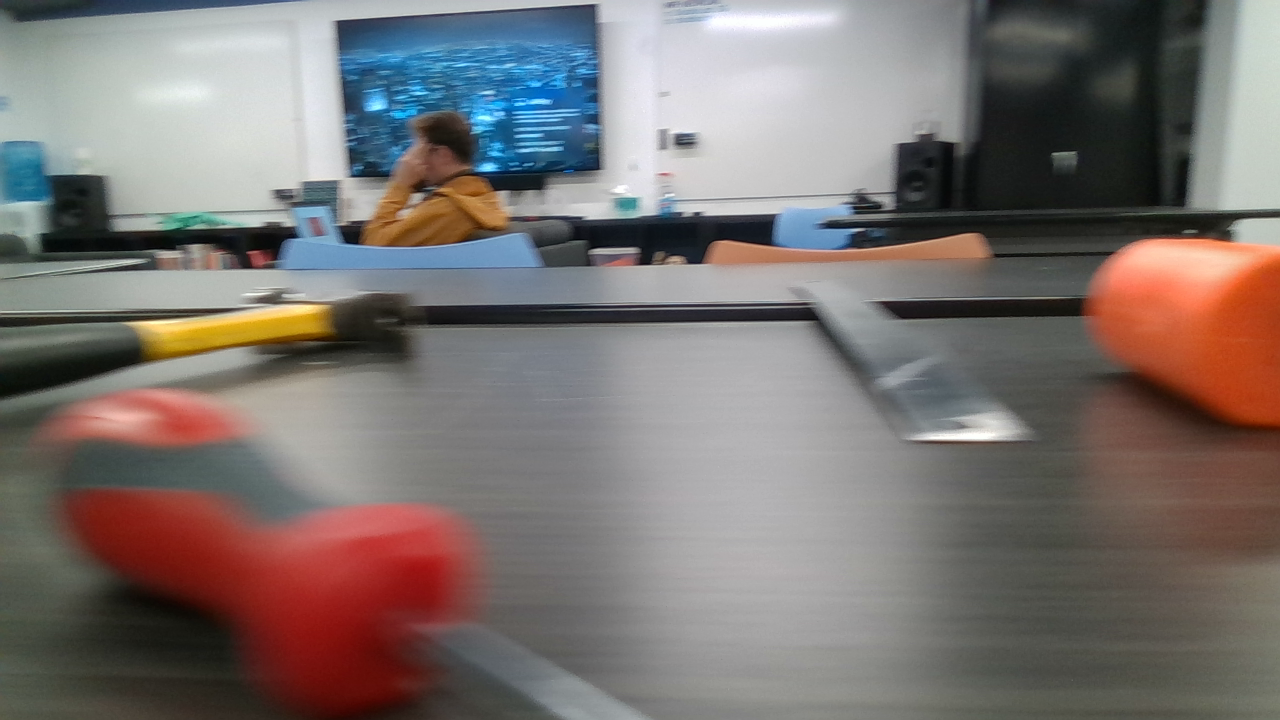Orange Hammer: (1079, 236, 1275, 430)
